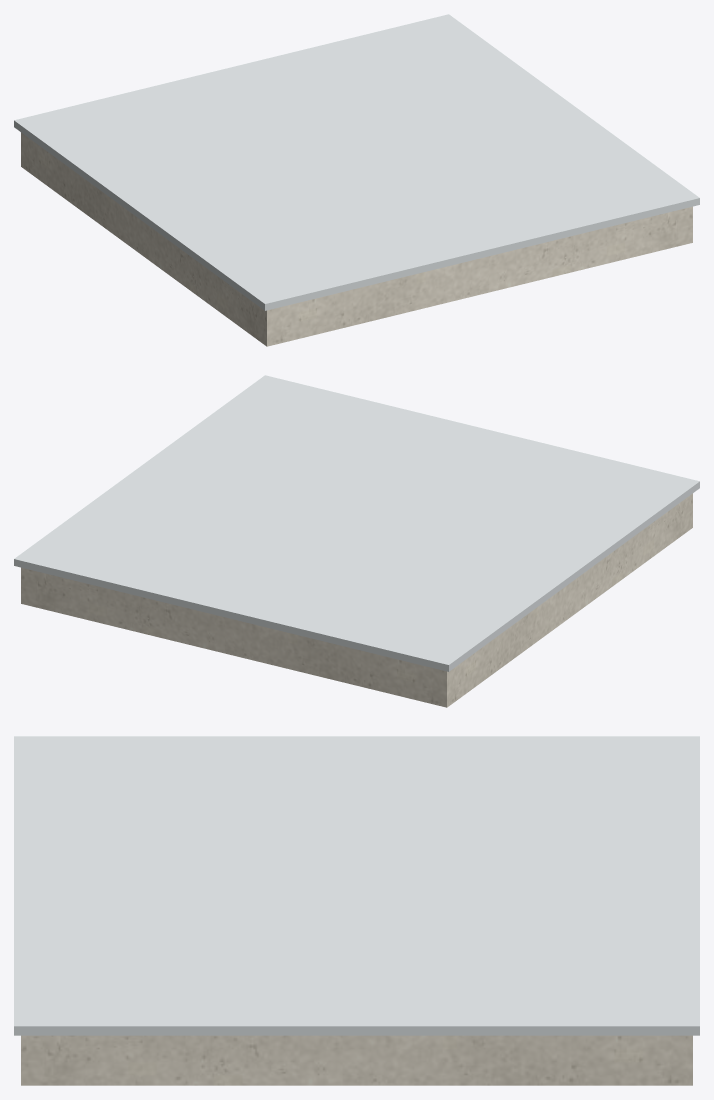
File: floor_tile_bath.glb
3 renders of one model, top to bottom at view 1: azimuth 30°, elevation 25°; view 2: azimuth 150°, elevation 25°; view 3: azimuth 270°, elevation 25°, orthographic. The views are drawn at different scales.
Parts seen in each view (by area): view 1: floor_tile_bath_tile, floor_tile_bath_plaster; view 2: floor_tile_bath_tile, floor_tile_bath_plaster; view 3: floor_tile_bath_tile, floor_tile_bath_plaster.
Boxes of the visible parts, x1,y1,x2,y2 form: floor_tile_bath_tile: (14,14,699,310); floor_tile_bath_plaster: (21,132,692,346); floor_tile_bath_tile: (14,375,699,671); floor_tile_bath_plaster: (21,493,692,707); floor_tile_bath_tile: (14,736,699,1035); floor_tile_bath_plaster: (21,1035,692,1085).
Size of the model in its own units: 2 by 0.2 by 2.
Materials: 2 (1 with a texture image).
